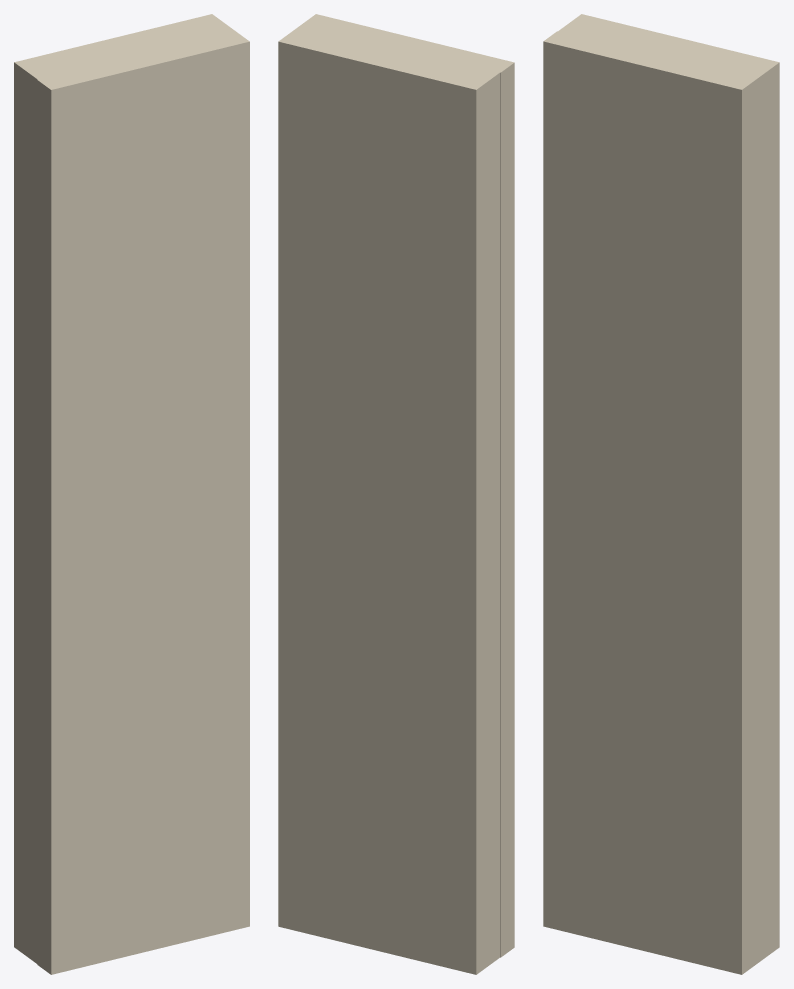
3 renders of one model, left to right at view 1: azimuth 30°, elevation 25°; view 2: azimuth 150°, elevation 25°; view 3: azimuth 330°, elevation 25°, orthographic.
Visible parts, largest first — view 1: A-GF-WALL-024; view 2: A-GF-WALL-024; view 3: A-GF-WALL-024.
Boxes of the visible parts, x1,y1,x2,y2 form: A-GF-WALL-024: (14, 14, 249, 974); A-GF-WALL-024: (278, 14, 514, 974); A-GF-WALL-024: (543, 14, 779, 974).
Bounding box in the file's own units: 0.639 × 2.72 × 0.2101.
